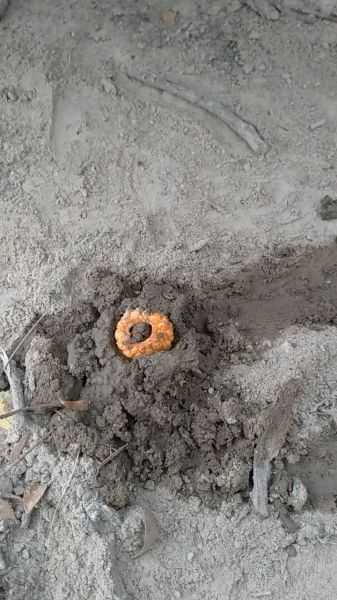eggs: (114, 304, 177, 359)
